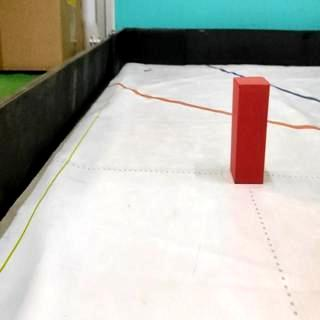redbox: (231, 77, 271, 183)
